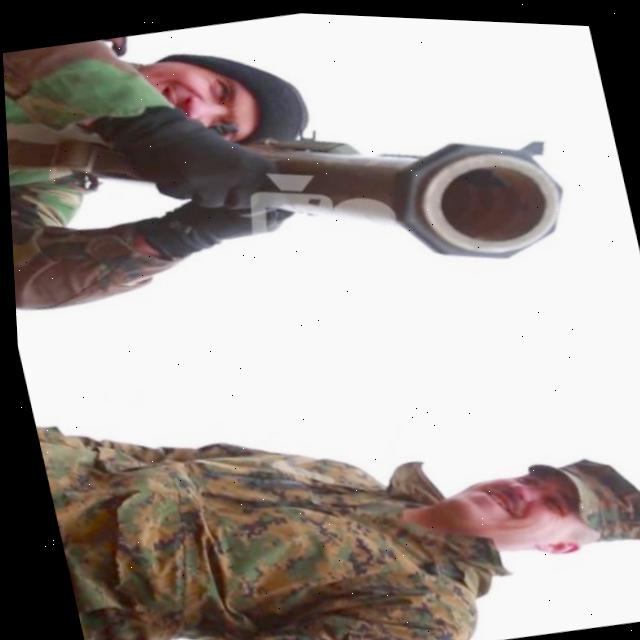rocket: (226, 75, 588, 307)
